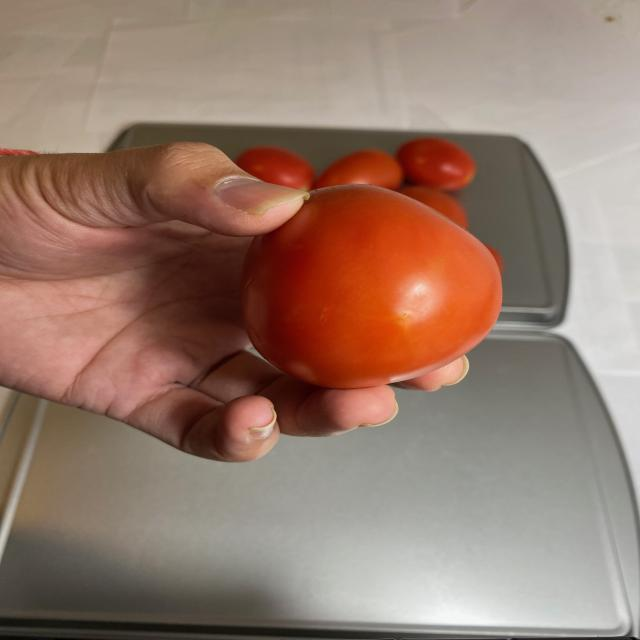tomato: (234, 137, 503, 390)
